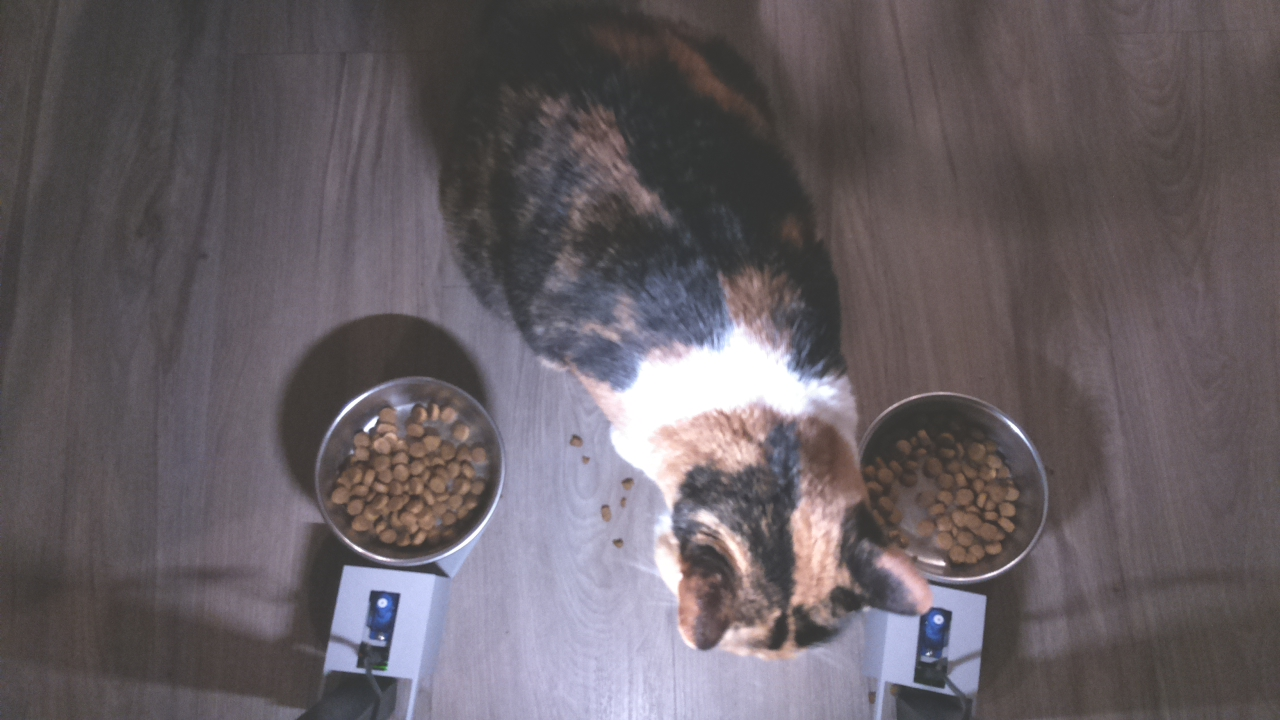bella: (652, 407, 908, 659)
open_bowl: (309, 372, 509, 569), (858, 386, 1054, 585)
